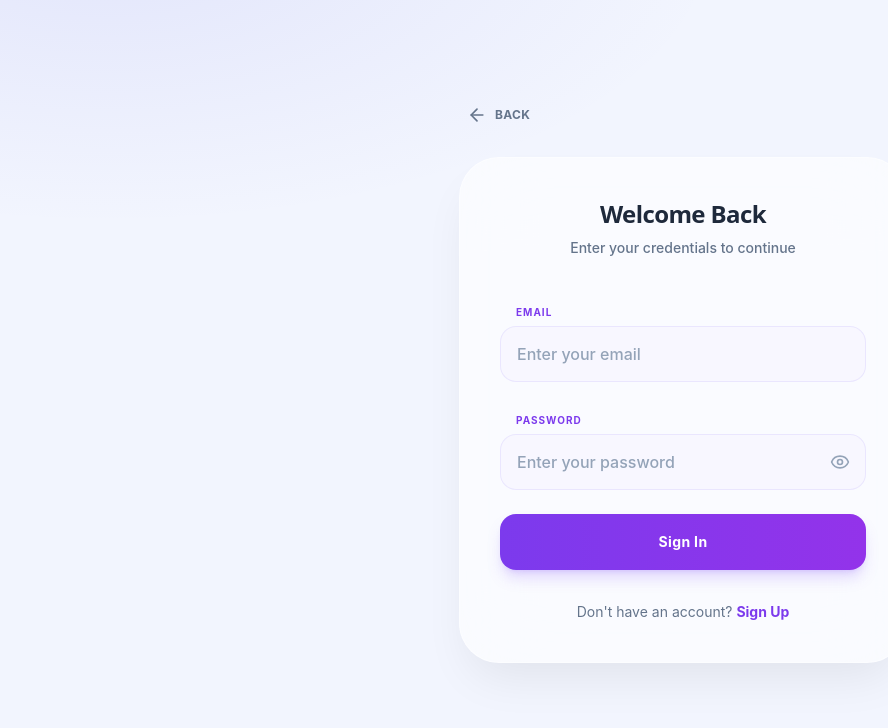
Test: AuthForm › shows safe error detail for failed sign-in and unexpected errors
The image size is (888, 728).
In the field with placeholder "Enter your email": (683,354) left=500, top=326, right=866, bottom=382, type "bad@example.com"
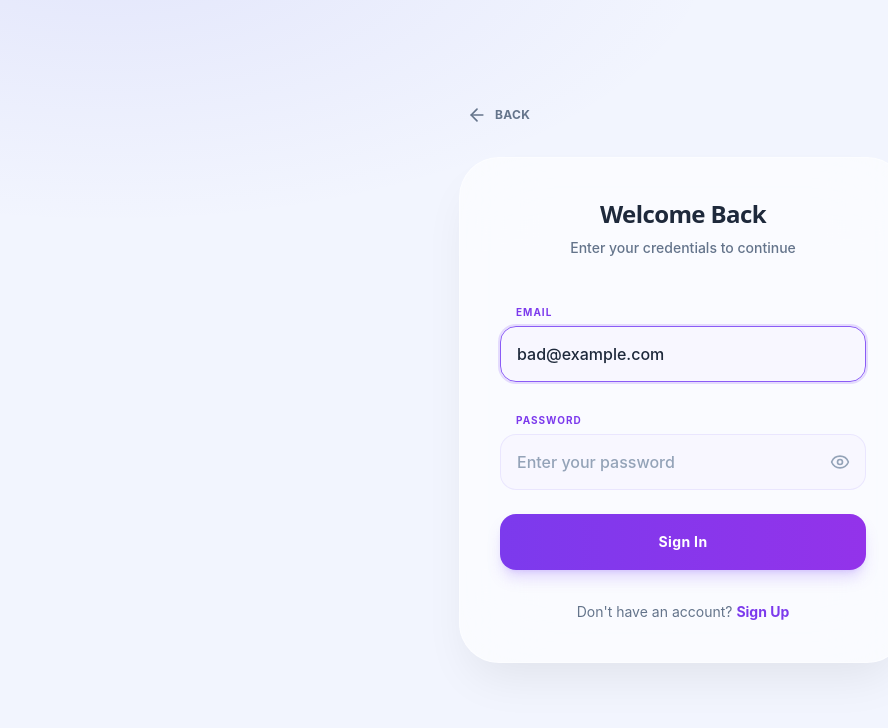
In the password field with placeholder "Enter your password": (683,462) left=500, top=434, right=866, bottom=490, type "wrong"
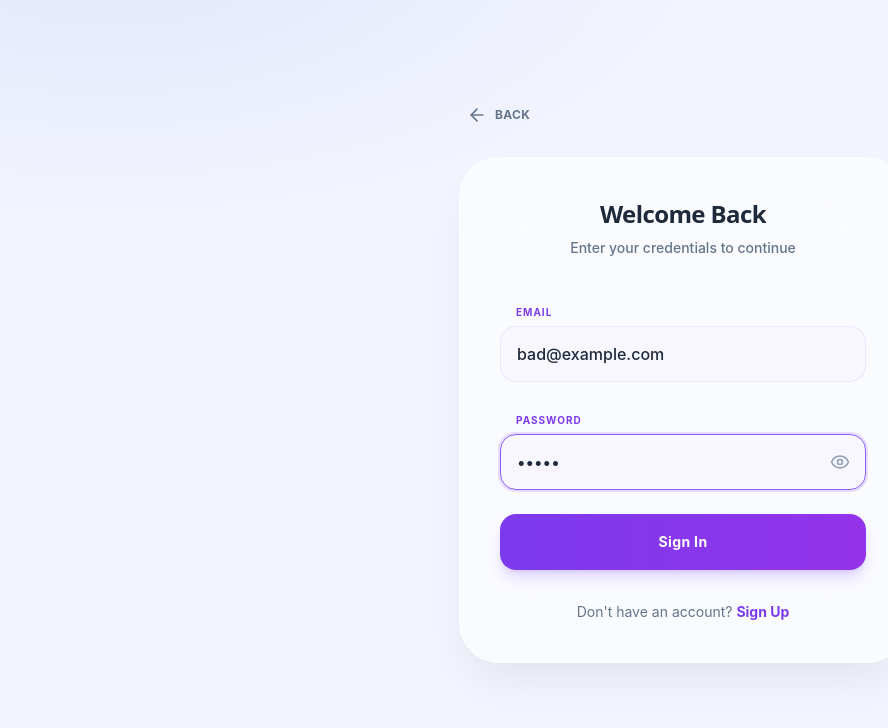
Click the button "Sign In": (683,542) left=500, top=514, right=866, bottom=570
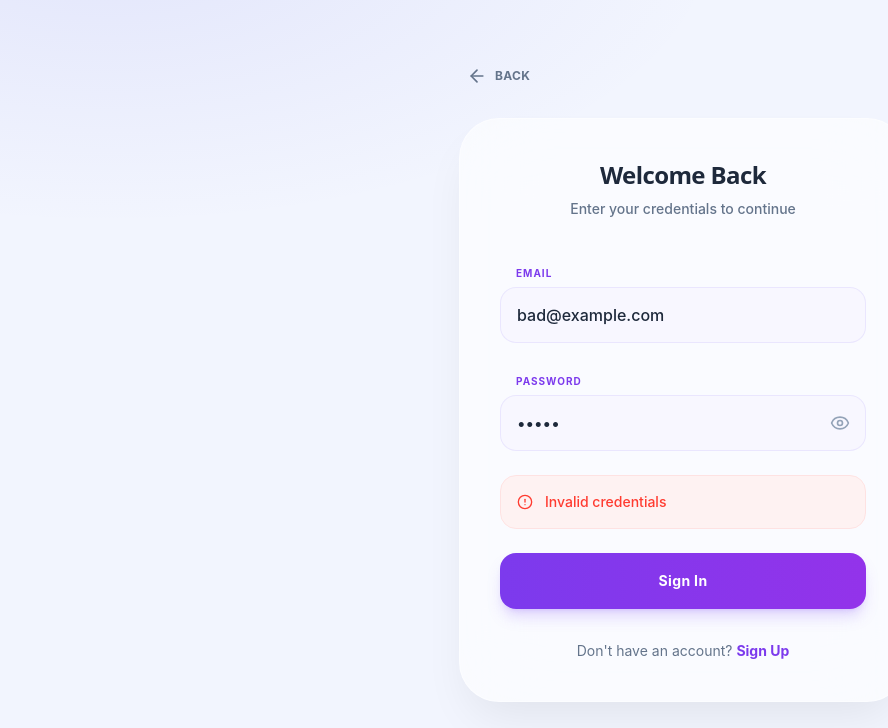
Expected: the text "Invalid credentials" is shown, left=545, top=492, right=666, bottom=512
Click the button "Sign In": (683,581) left=500, top=553, right=866, bottom=609
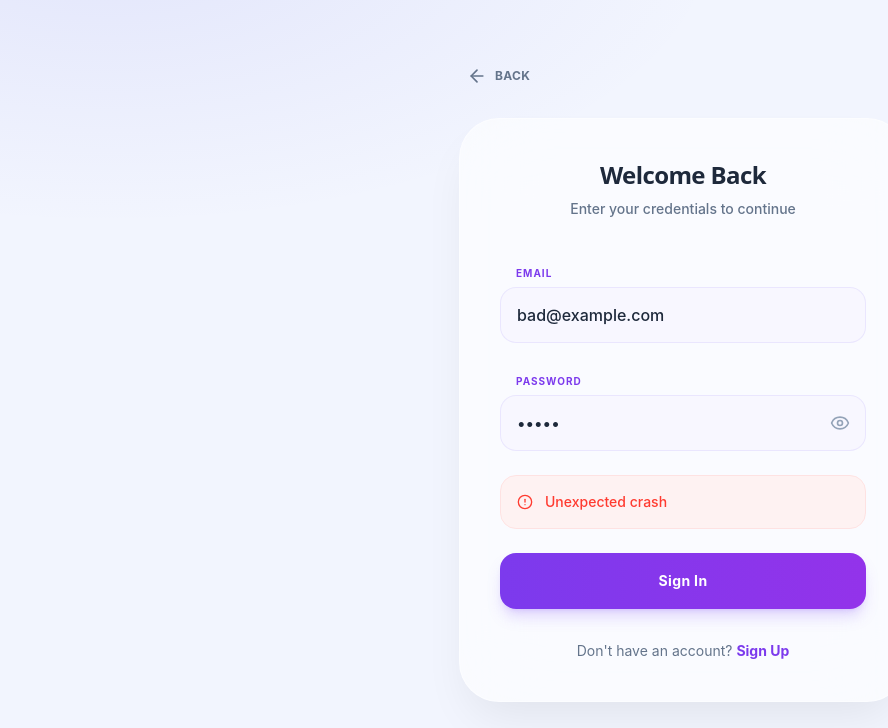
Expected: the text "Unexpected crash" is shown, left=545, top=492, right=667, bottom=512
